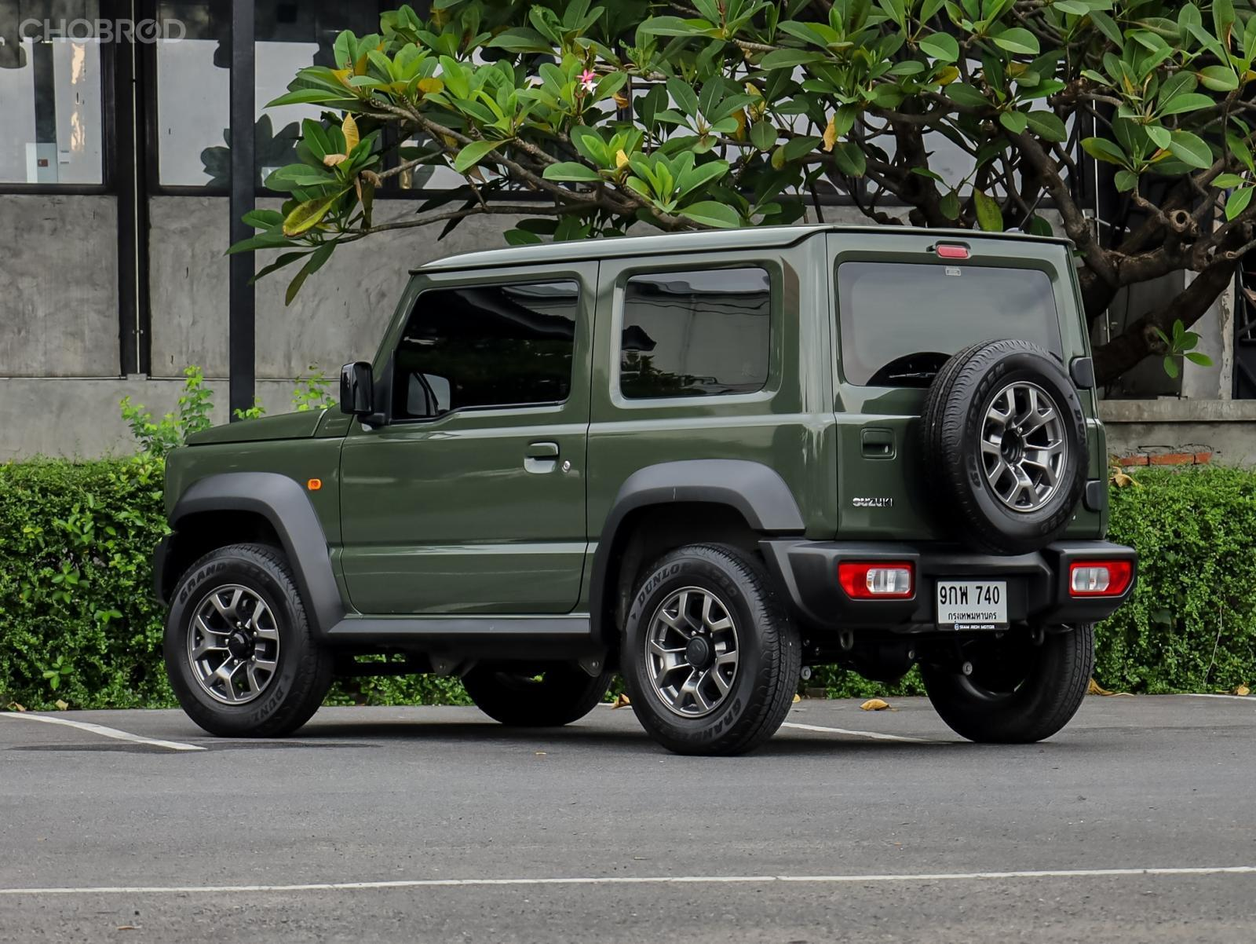license-plate: (933, 577, 1011, 637)
